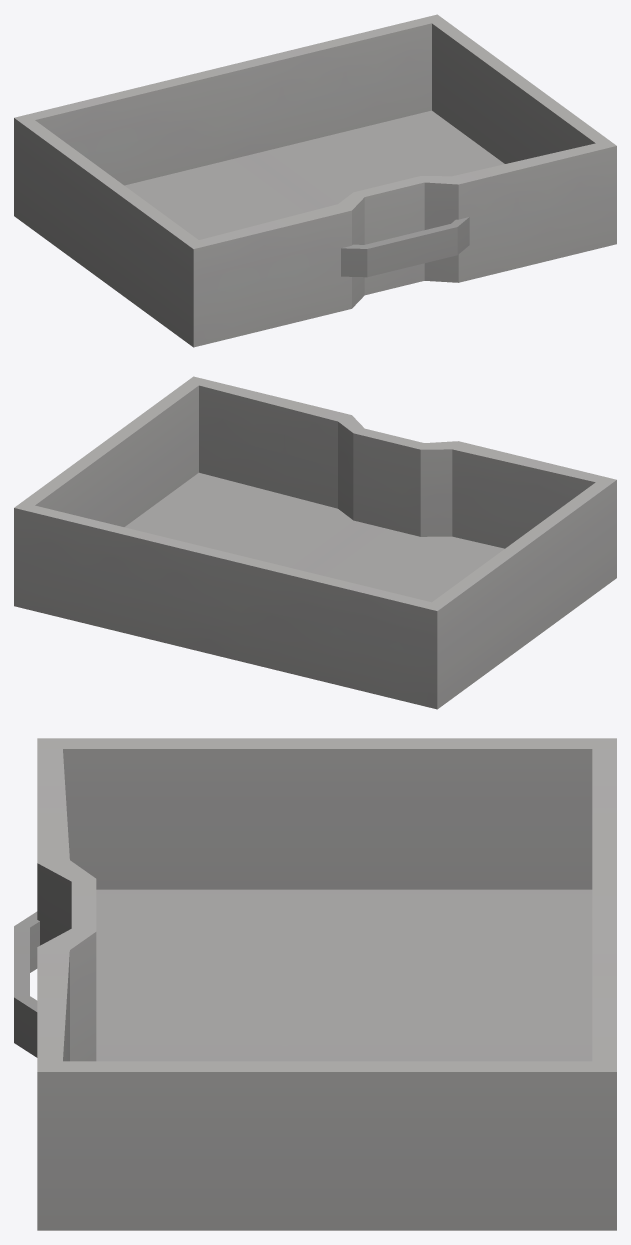
Rendered from PhotoCopier_Drawer_2.fbx.
The picture shows the model from 3 angles, top to bottom: view 1: azimuth 30°, elevation 25°; view 2: azimuth 150°, elevation 25°; view 3: azimuth 270°, elevation 25°; orthographic projection. The views are drawn at different scales.
Parts seen in each view (by area): view 1: PhotoCopier_Drawer_2; view 2: PhotoCopier_Drawer_2; view 3: PhotoCopier_Drawer_2.
Boxes of the visible parts, box(x1,y1,x2,y2) form: PhotoCopier_Drawer_2: box(14, 14, 616, 347); PhotoCopier_Drawer_2: box(14, 376, 616, 709); PhotoCopier_Drawer_2: box(14, 738, 616, 1230).
Size of the model in its own units: 47.85 by 10.62 by 36.56.
